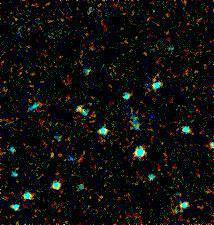star: (134, 97, 164, 127)
